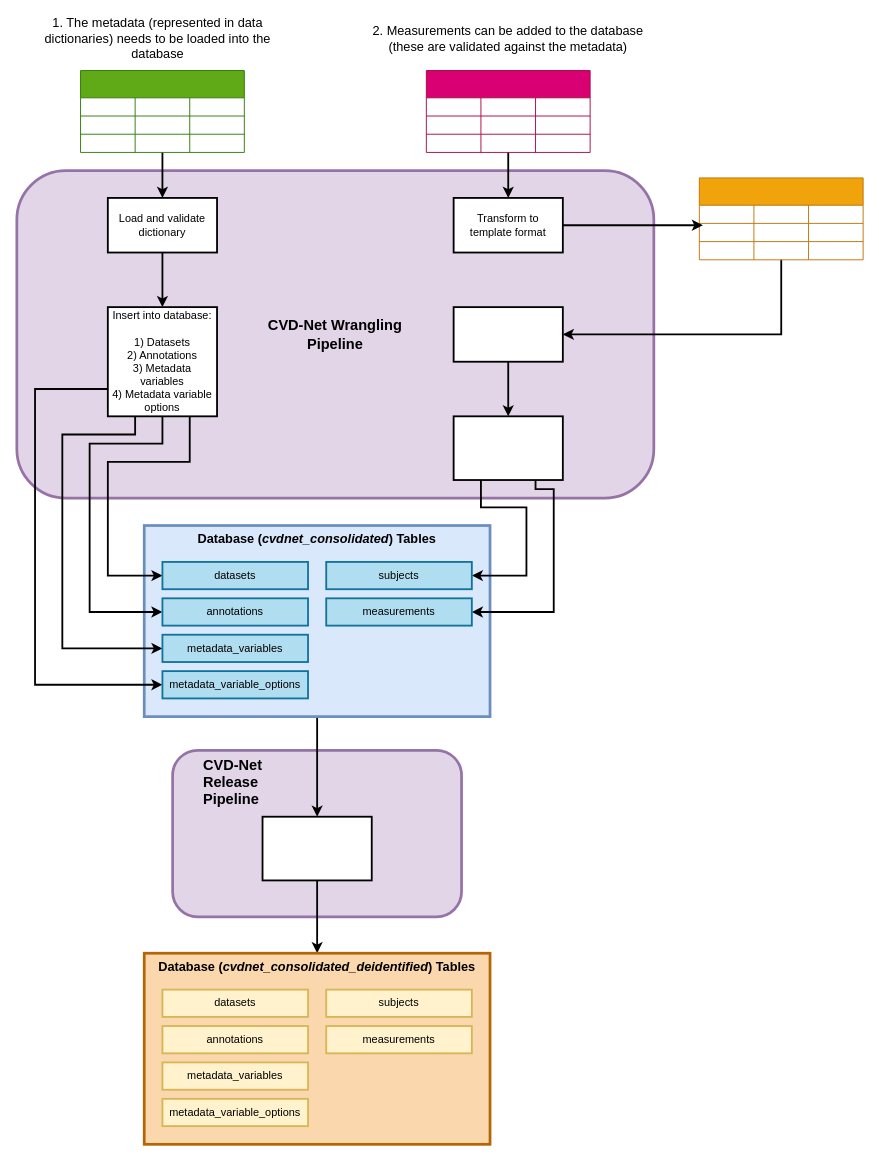
Image size: 879x1161. Some labels were removed from this diagram. The shapes that lost their labels are listed below. From the top down, each one's centre as x and y in pixels, then its label:
At pixel 162 111: "Data Dictionary".
At pixel 507 111: "Raw Data".
At pixel 780 218: "Transformed Data".
At pixel 507 334: "Load and validate measurement data".
At pixel 507 447: "Insert into database: 1) Subjects 2) Measurements".
At pixel 316 848: "Prepare data for release".
